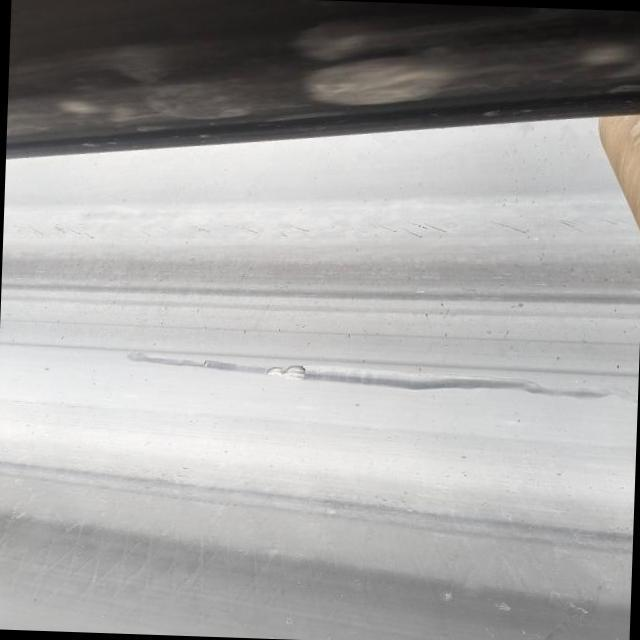Impact Damage: (266, 364, 305, 380)
